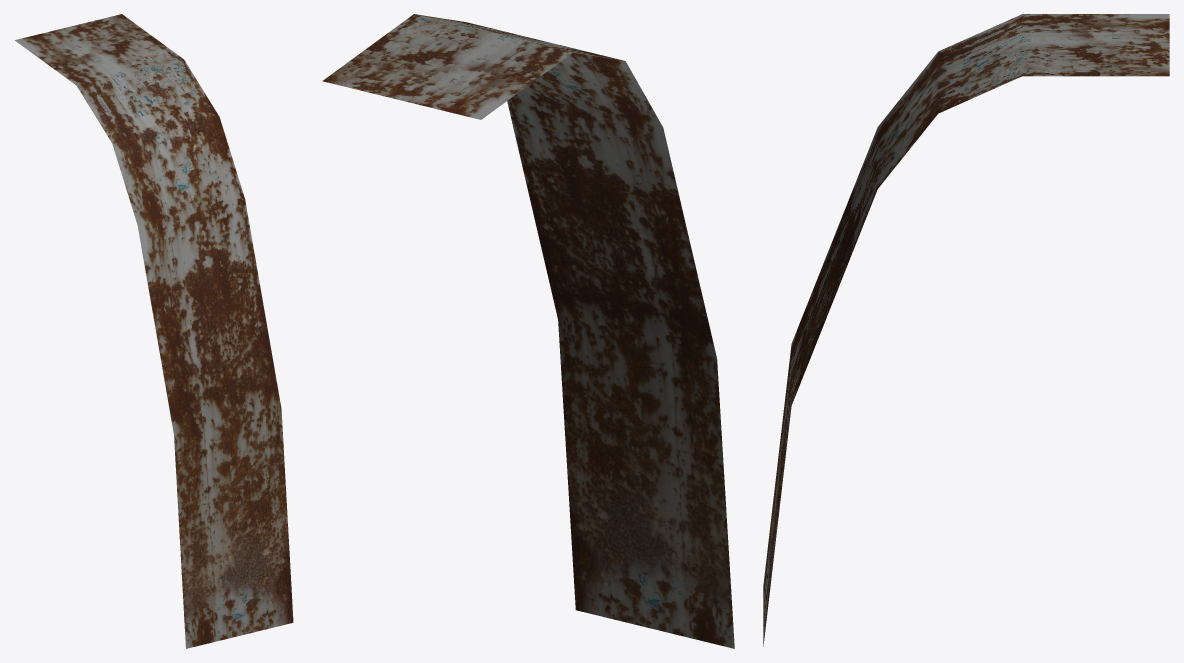
File: molten metal.fbx
3 views of the same model, side by side, from view 1: azimuth 30°, elevation 25°; view 2: azimuth 150°, elevation 25°; view 3: azimuth 270°, elevation 25° (orthographic). The views are drawn at different scales.
Visible parts, largest first — view 1: Smelter.001; view 2: Smelter.001; view 3: Smelter.001.
Part boxes in pixels (x1,y1,x2,y2): Smelter.001: (15, 14, 293, 648); Smelter.001: (322, 14, 734, 648); Smelter.001: (763, 14, 1169, 646).
Bounding box in the file's own units: 0.0907 × 0.3893 × 0.2504.
